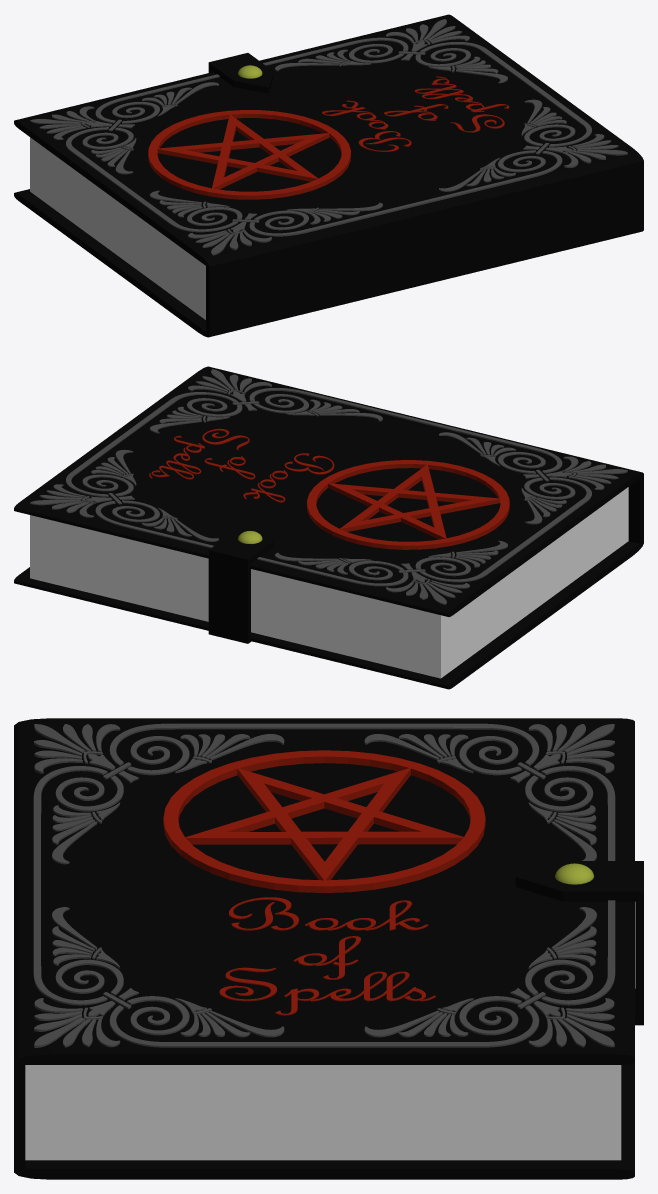
The model's file is Book.fbx.
The picture shows the model from 3 angles, top to bottom: view 1: azimuth 30°, elevation 25°; view 2: azimuth 150°, elevation 25°; view 3: azimuth 270°, elevation 25°; orthographic projection. The views are drawn at different scales.
Visible parts, largest first — view 1: Book, Design, Pages, Pentagram, Text, Strap; view 2: Book, Pages, Design, Pentagram, Strap, Text; view 3: Book, Pages, Design, Pentagram, Text, Strap, Button.
Part boxes in pixels (left/top/right/bottom): Book: left=14, top=14, right=643, bottom=337; Design: left=30, top=19, right=627, bottom=255; Pages: left=30, top=137, right=205, bottom=319; Pentagram: left=148, top=110, right=350, bottom=199; Text: left=322, top=76, right=509, bottom=151; Strap: left=208, top=53, right=273, bottom=93; Book: left=14, top=366, right=643, bottom=689; Pages: left=30, top=487, right=628, bottom=678; Design: left=30, top=369, right=627, bottom=604; Pentagram: left=307, top=460, right=509, bottom=549; Strap: left=208, top=525, right=273, bottom=643; Text: left=149, top=428, right=334, bottom=502; Book: left=14, top=718, right=634, bottom=1179; Pages: left=25, top=1065, right=621, bottom=1160; Design: left=33, top=723, right=615, bottom=1047; Pentagram: left=163, top=750, right=485, bottom=892; Text: left=219, top=897, right=435, bottom=1015; Strap: left=515, top=861, right=643, bottom=1025; Button: left=555, top=863, right=594, bottom=884.
Bounding box in the file's own units: 256 × 51.63 × 203.
